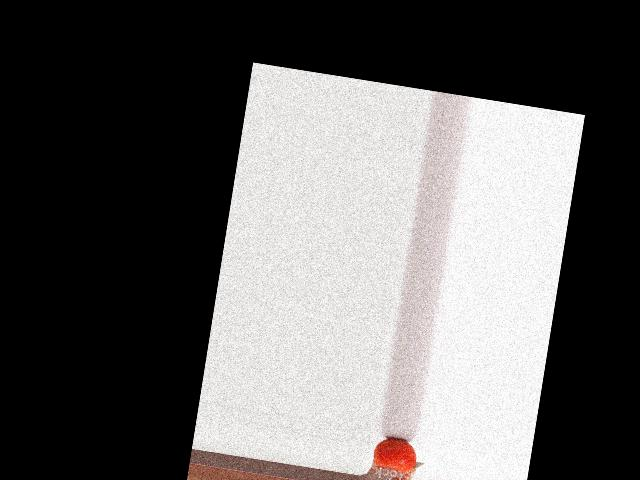tomato: (370, 435, 419, 475)
